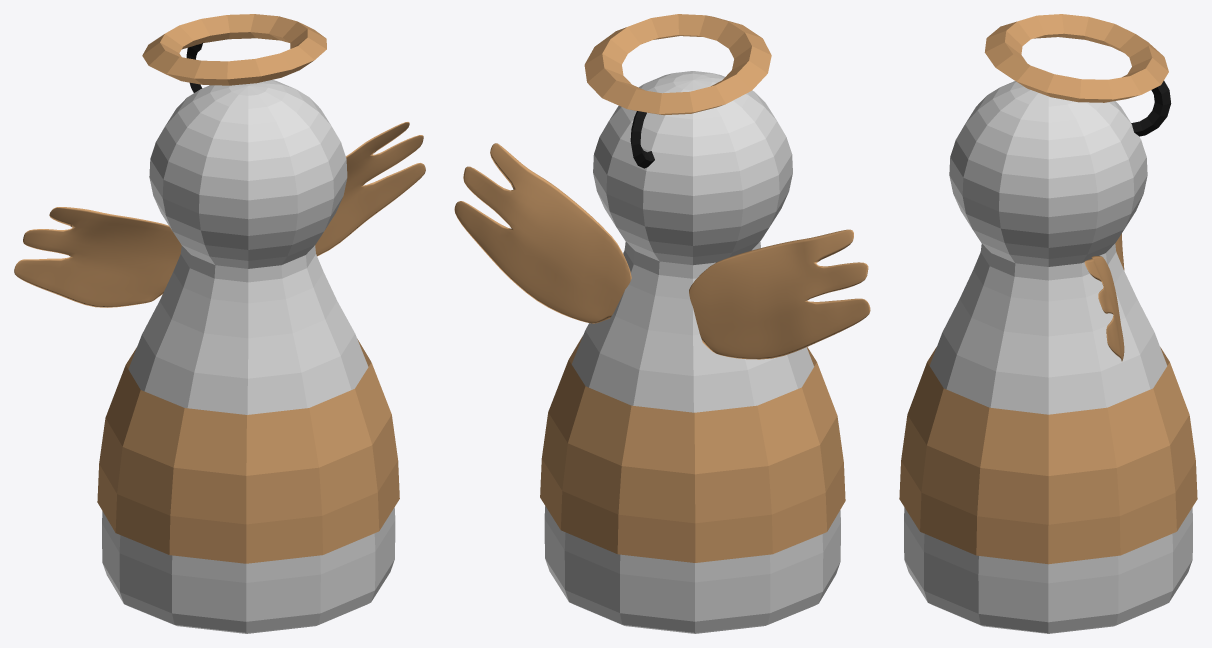
File: Character_Angel.fbx
The picture shows the model from 3 angles, left to right: view 1: azimuth 30°, elevation 25°; view 2: azimuth 150°, elevation 25°; view 3: azimuth 270°, elevation 25°; orthographic projection.
Parts seen in each view (by area): view 1: asa.001; view 2: asa.001; view 3: asa.001.
Part boxes in pixels (left/top/right/bottom): asa.001: left=14, top=14, right=425, bottom=633; asa.001: left=454, top=14, right=870, bottom=633; asa.001: left=899, top=14, right=1197, bottom=633.
Bounding box in the file's own units: 475 × 591 × 297.
